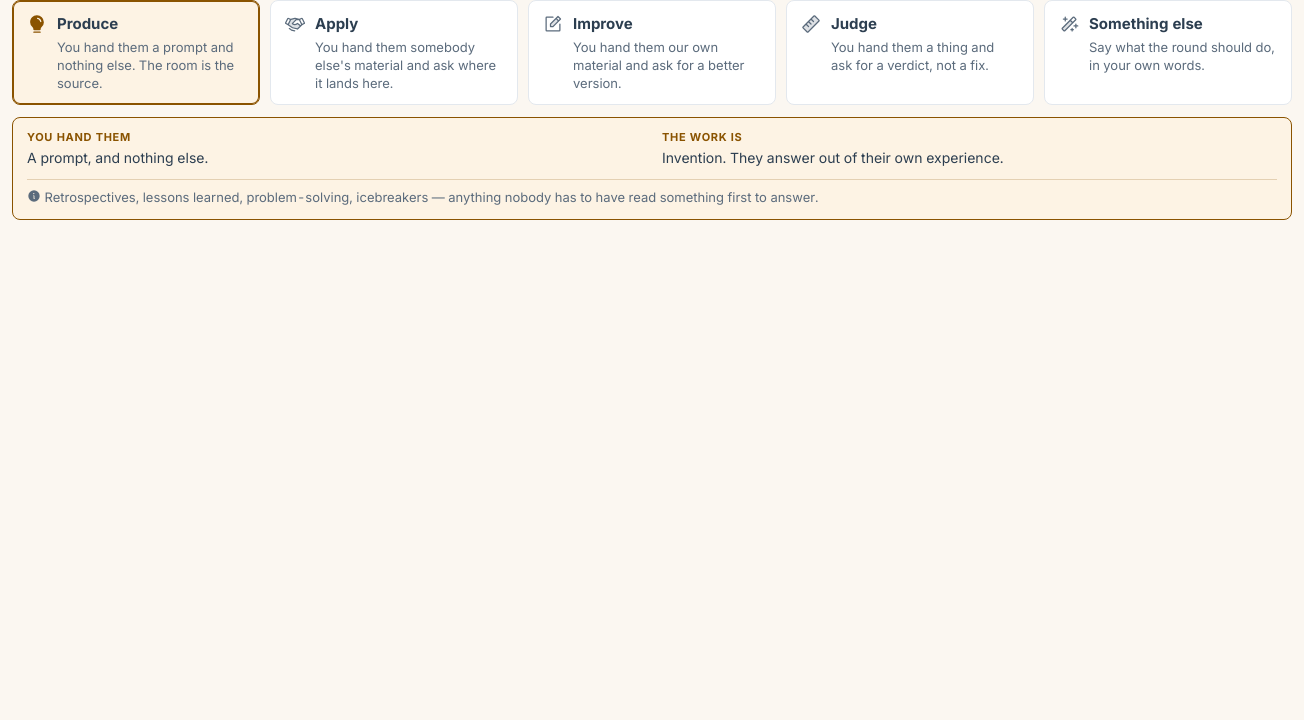
it: the custom escape hatch › the two free-text boxes appear only for Something else
This screenshot has width=1304, height=720.
Expected: the field labelled "What should this round do" is not shown
Step 1. Click the radio button labelled "Something else" → click(1168, 53), box [1044, 0, 1292, 105]
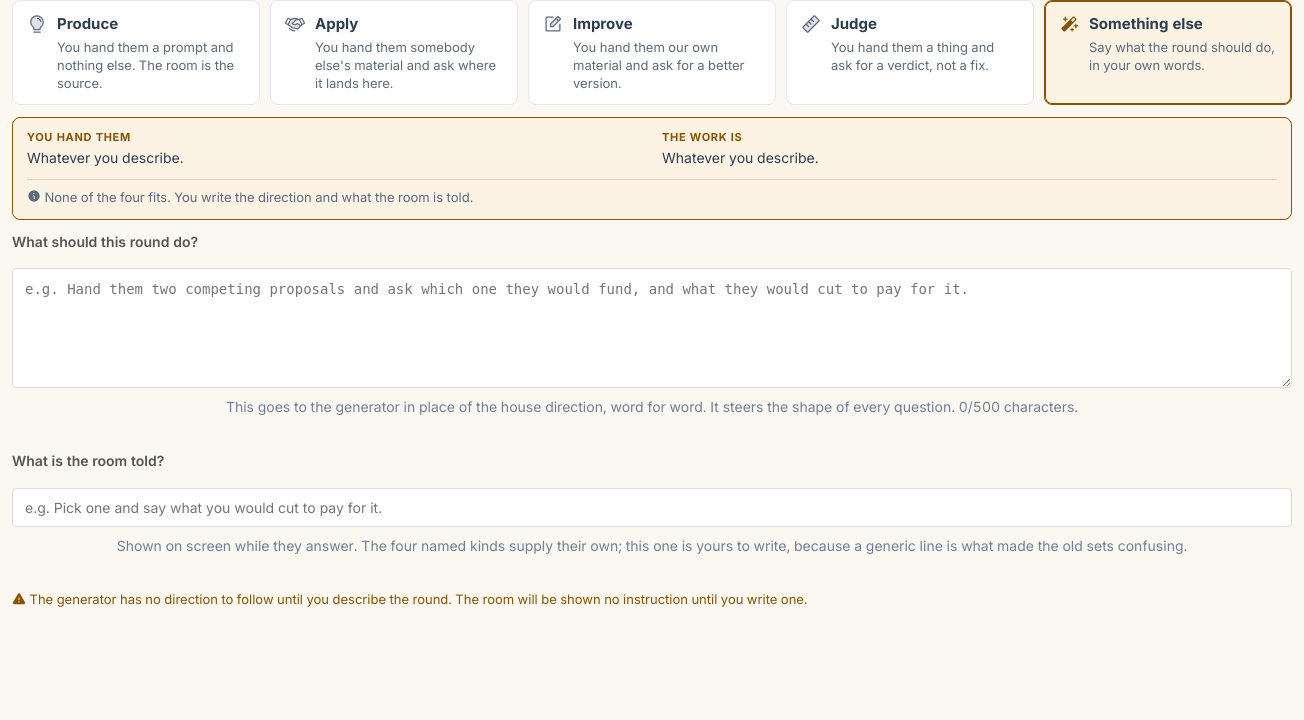
Expected: the text box labelled "What should this round do?" is shown, [12, 268, 1292, 388]
Expected: the field labelled "What is the room told?" is shown, [12, 488, 1292, 527]
